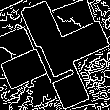L_NW: (31, 26, 79, 84)
